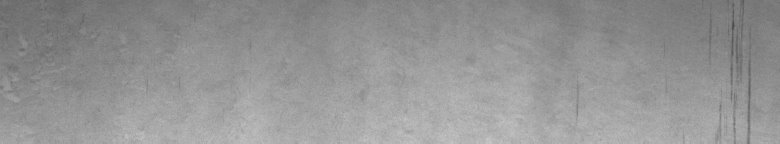ka: (702, 4, 755, 136)
